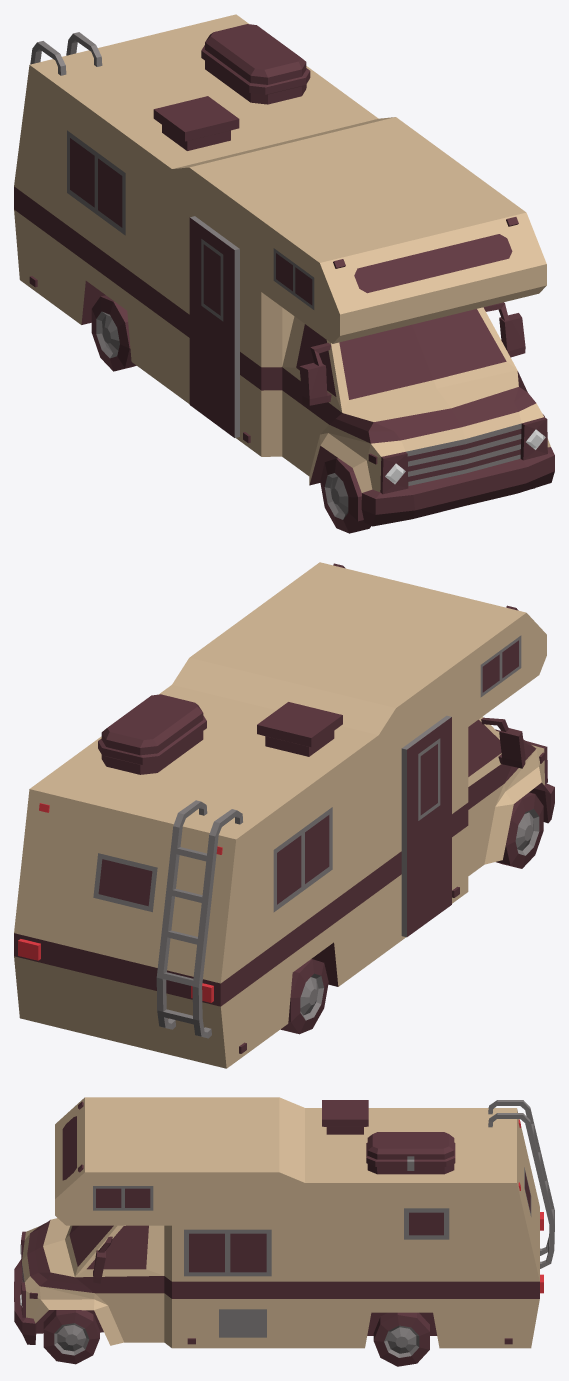
Rendered from car-camper-vintage.fbx.
3 views of the same model, one above another, from view 1: azimuth 30°, elevation 25°; view 2: azimuth 150°, elevation 25°; view 3: azimuth 270°, elevation 25° (orthographic). The views are drawn at different scales.
Visible parts, largest first — view 1: car-camper-vintage-base, car-camper-vintage-wheel_FR, car-camper-vintage-wheel_BR; view 2: car-camper-vintage-base, car-camper-vintage-wheel_BR, car-camper-vintage-wheel_FR; view 3: car-camper-vintage-base, car-camper-vintage-wheel_BL, car-camper-vintage-wheel_FL.
Boxes of the visible parts, bbox=[...] form: car-camper-vintage-base: bbox=[14, 14, 554, 526]; car-camper-vintage-wheel_FR: bbox=[320, 458, 370, 533]; car-camper-vintage-wheel_BR: bbox=[91, 295, 136, 371]; car-camper-vintage-base: bbox=[14, 562, 554, 1068]; car-camper-vintage-wheel_BR: bbox=[280, 959, 328, 1034]; car-camper-vintage-wheel_FR: bbox=[496, 792, 543, 868]; car-camper-vintage-base: bbox=[14, 1097, 554, 1348]; car-camper-vintage-wheel_BL: bbox=[373, 1312, 429, 1366]; car-camper-vintage-wheel_FL: bbox=[43, 1310, 99, 1364].
Bounding box in the file's own units: 2.54 × 3.11 × 7.29.
